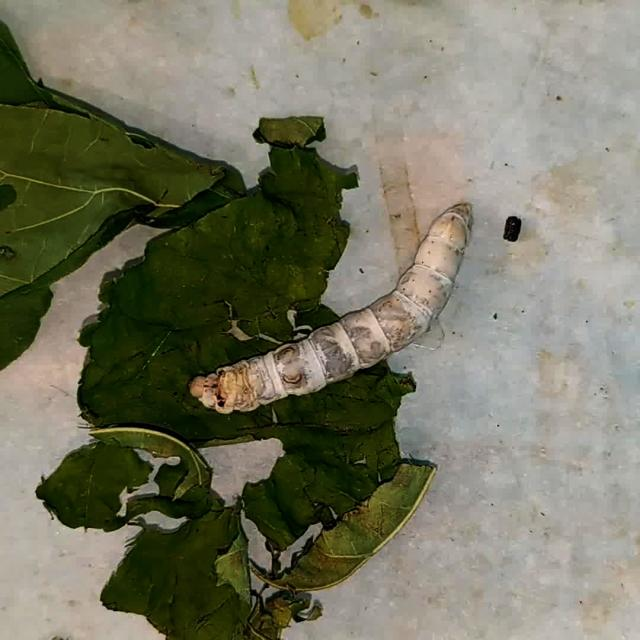Grasserie: (175, 180, 494, 438)
